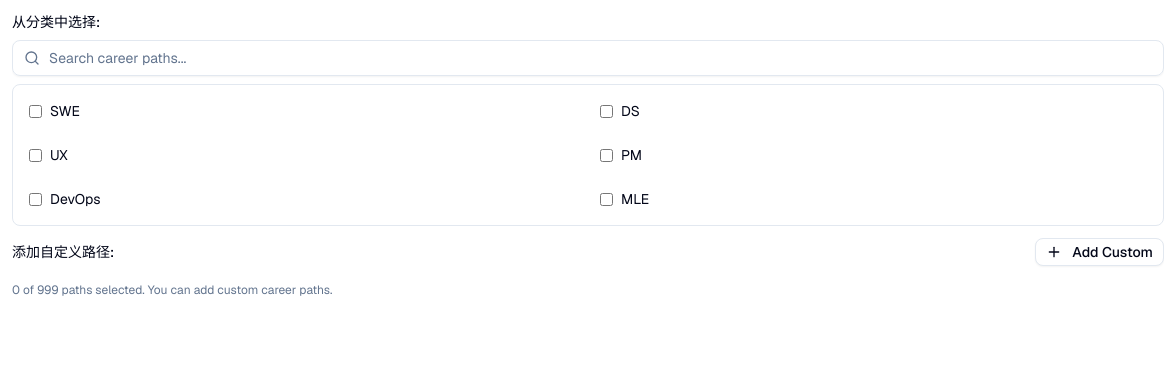
CareerPathMultiSelector › shows custom path input when Add Custom button is clicked
The image size is (1176, 389).
Click the button "Add Custom".
click(1100, 252)  # box [1035, 238, 1164, 266]
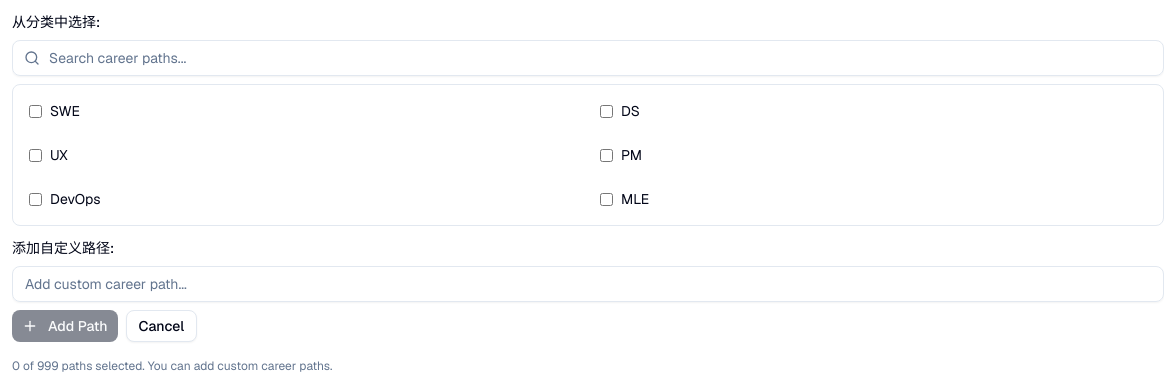
expect the field with placeholder "Add custom career path..." is shown: met, box [12, 266, 1164, 302]
expect the button "Add Path" is shown: met, box [12, 310, 118, 342]
expect the button "Cancel" is shown: met, box [126, 310, 197, 342]
